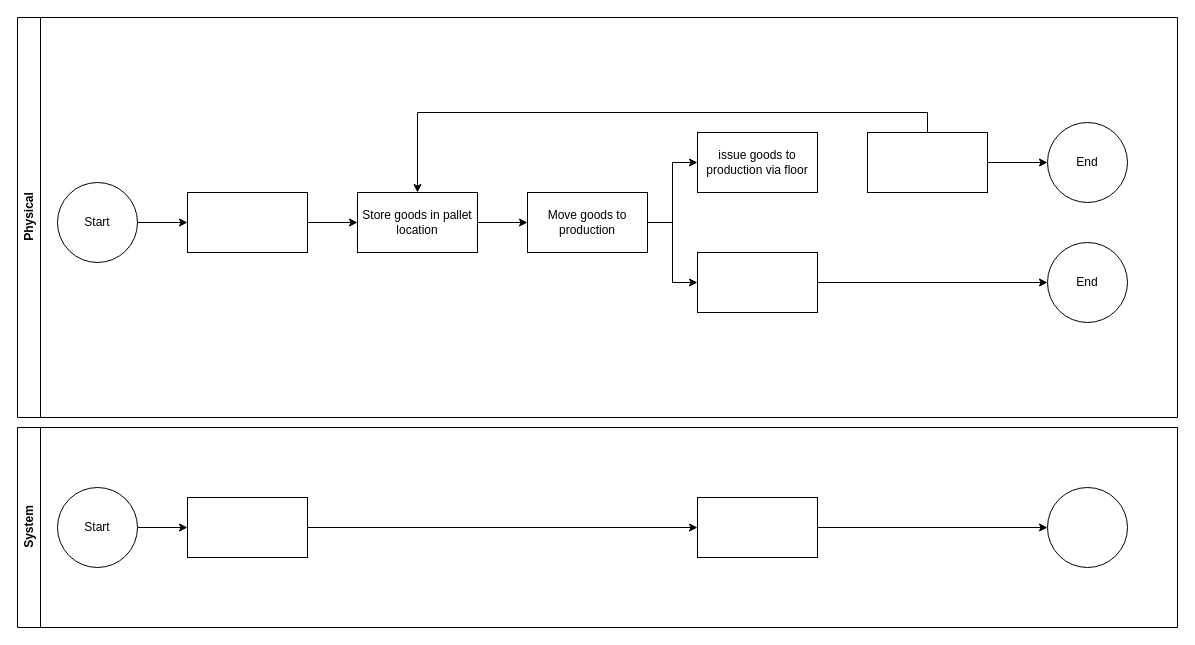
This 1195x645 diagram has some shape labels left out. Here are the shapes that lost their labels. From the top down, the centre of each, then its label:
At [927,162]: "Return leftovers to warehouse".
At [247,222]: "Receive goods".
At [757,282]: "issue goods to production premix silo".
At [247,527]: "Receive goods via scanning on 30/30".
At [757,527]: "Issue goods from 30/30; Backflushing FIFO".
